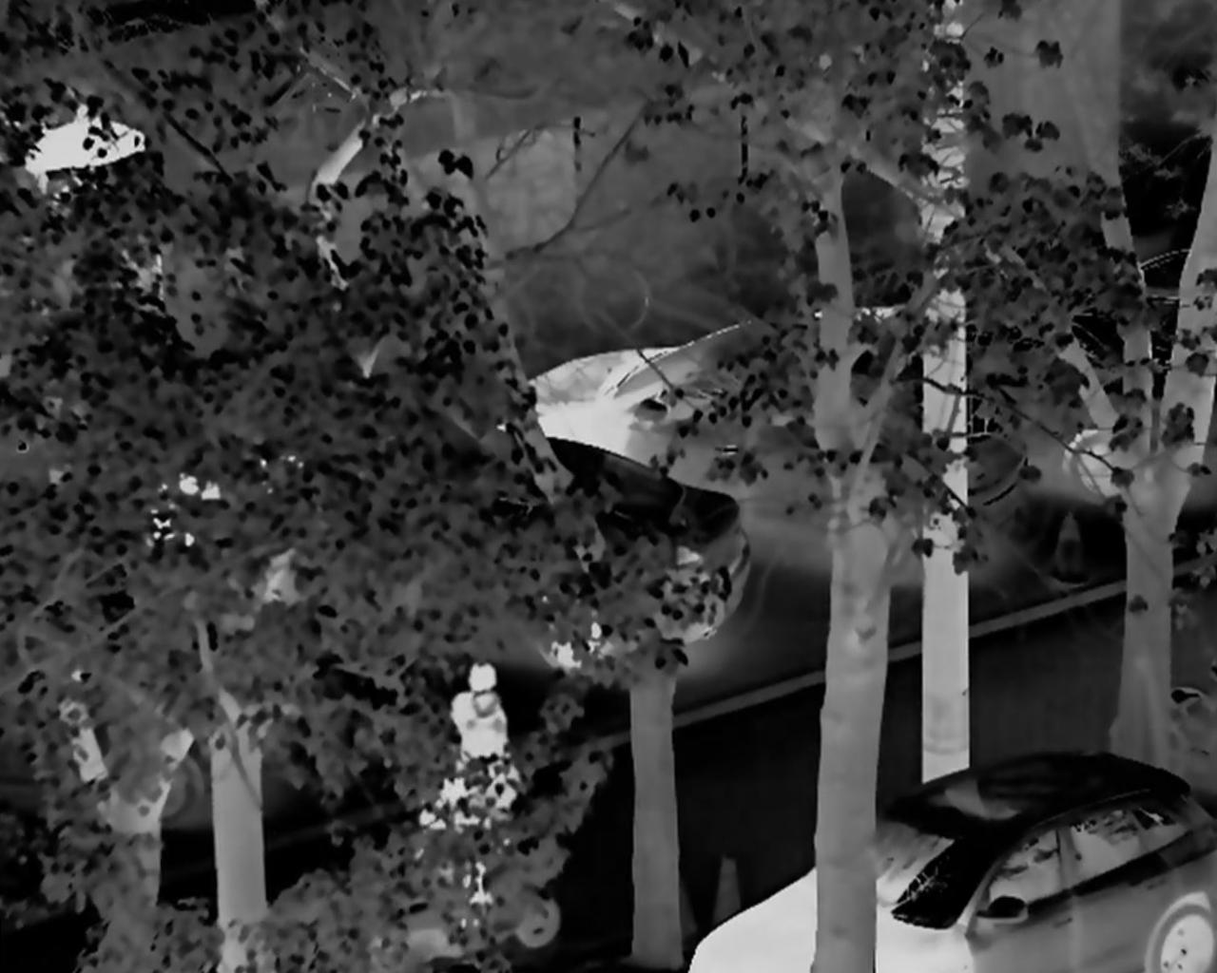person: (414, 756, 493, 949), (448, 658, 530, 829)
